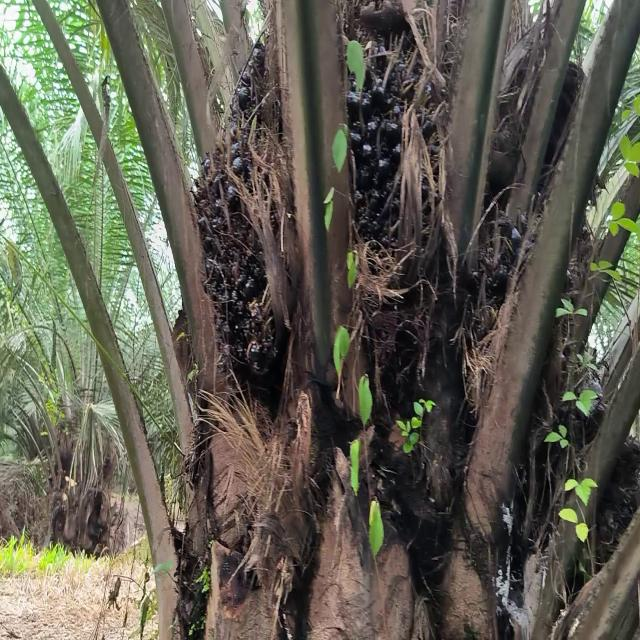palm-oil: (184, 138, 303, 405), (336, 71, 434, 374)
